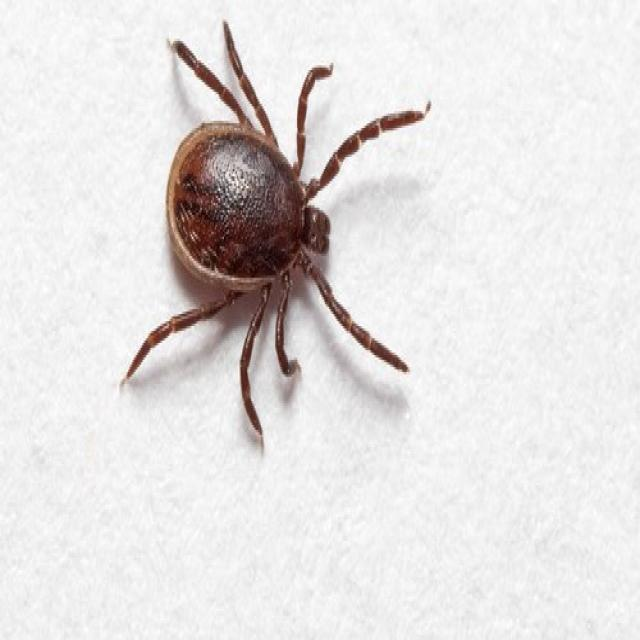Ixodes Ricinus-M: (119, 24, 430, 447)
